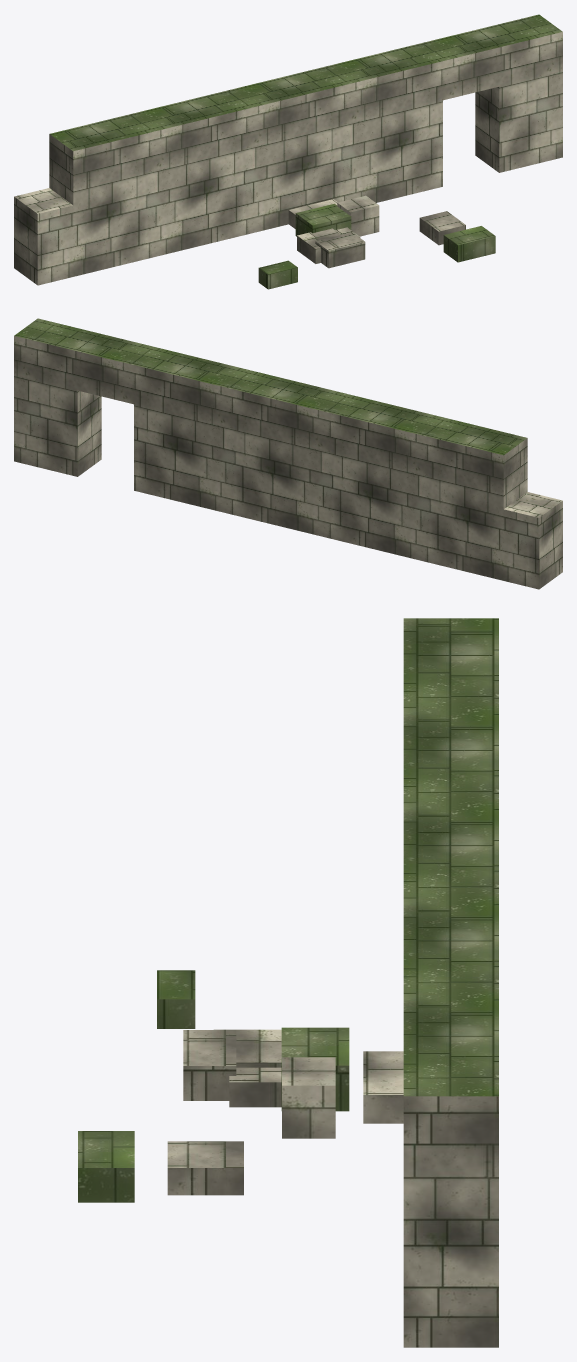
The model's file is ruin-wall-long.ruins-v1.lod0.glb.
3 renders of one model, top to bottom at view 1: azimuth 30°, elevation 25°; view 2: azimuth 150°, elevation 25°; view 3: azimuth 270°, elevation 25°, orthographic. The views are drawn at different scales.
Parts seen in each view (by area): view 1: ruin-wall-long; view 2: ruin-wall-long; view 3: ruin-wall-long.
Boxes of the visible parts, x1=… form: ruin-wall-long: x1=14, y1=14, x2=562, y2=289; ruin-wall-long: x1=14, y1=318, x2=562, y2=589; ruin-wall-long: x1=78, y1=618, x2=498, y2=1347.
Bounding box in the file's own units: 14 × 3.2 × 4.86.
2 materials, 2 textured.
